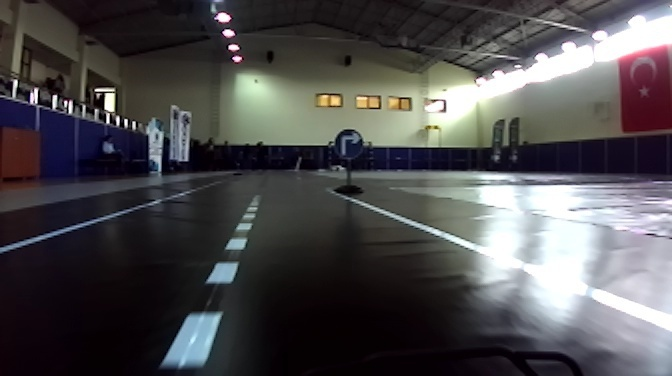saga_donus: (332, 129, 363, 160)
